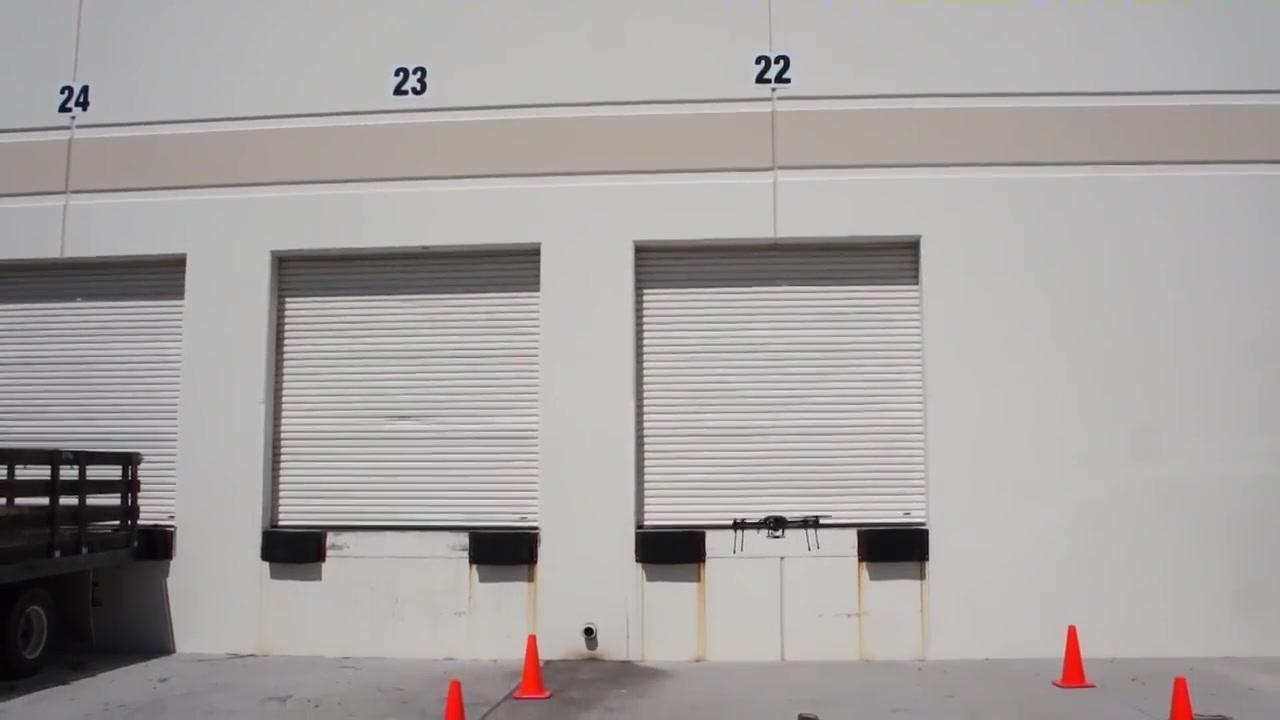UAV: (732, 515, 833, 556)
